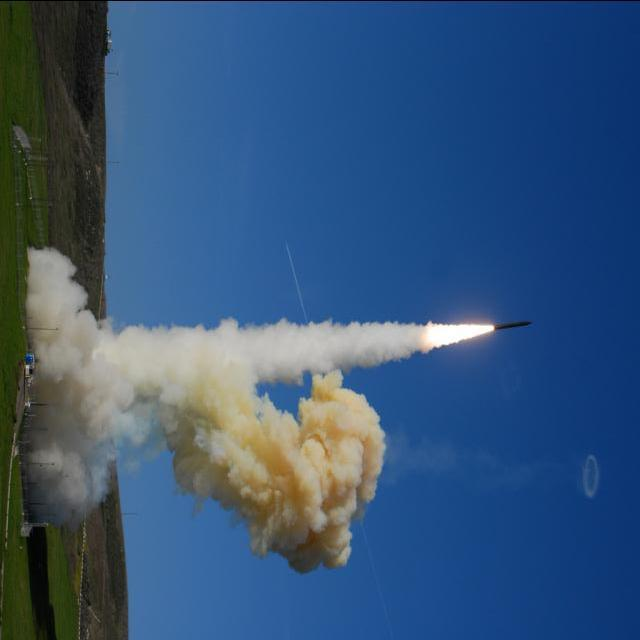Missile: (491, 318, 535, 330)
